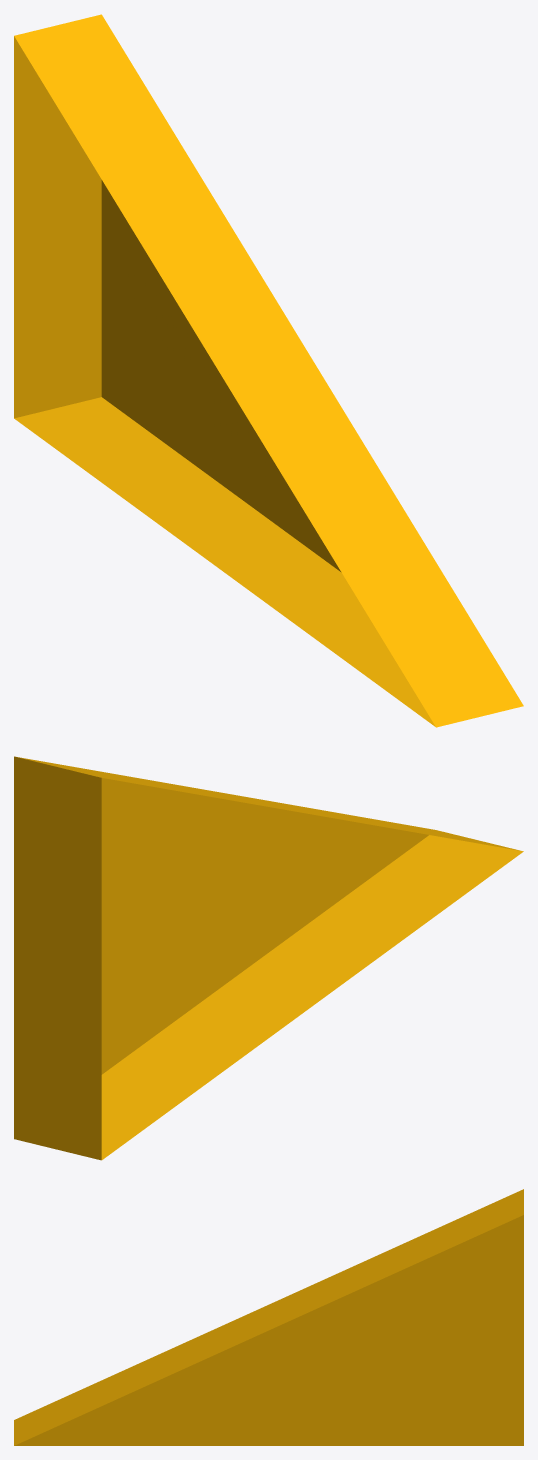
File: board_wedge_2.dae
3 views of the same model, one above another, from view 1: azimuth 30°, elevation 25°; view 2: azimuth 150°, elevation 25°; view 3: azimuth 270°, elevation 25° (orthographic). The views are drawn at different scales.
Visible parts, largest first — view 1: Cube; view 2: Cube; view 3: Cube.
Boxes of the visible parts, box(x1,y1,x2,y2) form: Cube: box(14, 14, 523, 727); Cube: box(14, 756, 523, 1160); Cube: box(14, 1189, 523, 1445).
Size of the model in its own units: 0.06 by 0.5 by 0.25.
